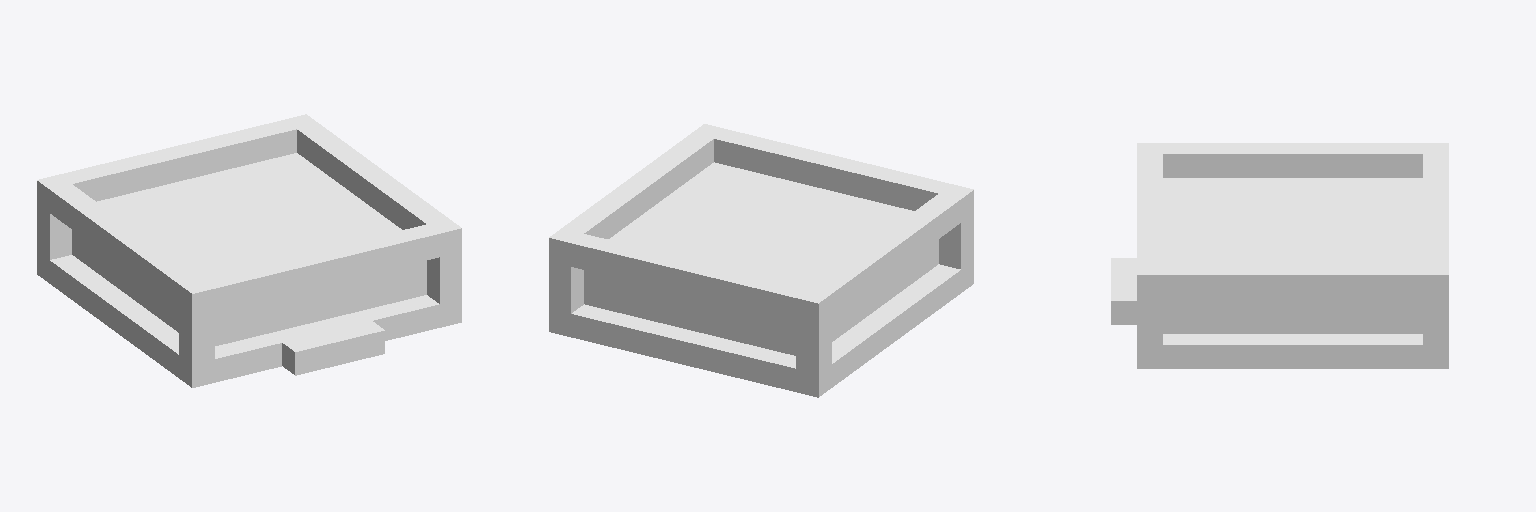
Rendered from Decor-19.obj.
3 renders of one model, left to right at view 1: azimuth 30°, elevation 25°; view 2: azimuth 150°, elevation 25°; view 3: azimuth 270°, elevation 25°, orthographic.
Parts seen in each view (by area): view 1: object 1; view 2: object 1; view 3: object 1.
Boxes of the visible parts, x1=… form: object 1: x1=37, y1=114, x2=461, y2=387; object 1: x1=549, y1=124, x2=973, y2=397; object 1: x1=1111, y1=143, x2=1448, y2=368.
Size of the model in its own units: 1.2 by 0.4 by 1.3.